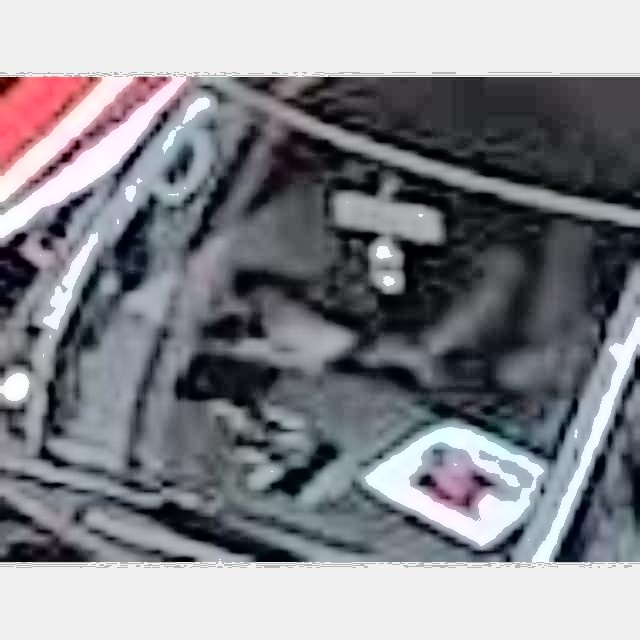tidak-pakai: (290, 178, 465, 367)
